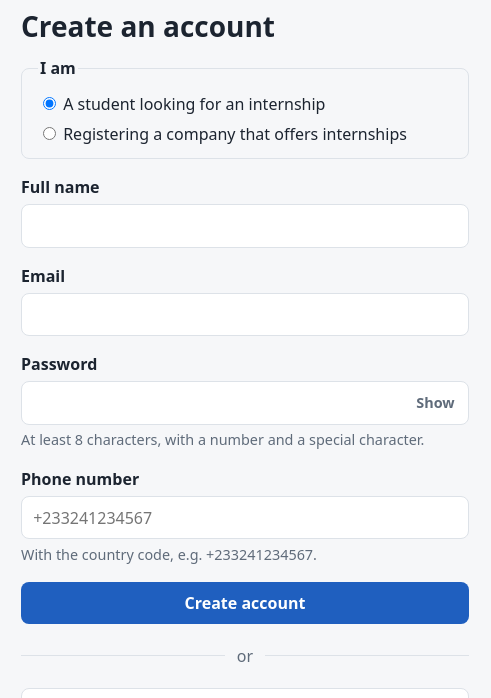
Test: RegisterPage (US-01, US-04) › applies the password and phone rules before sending
Type "ada@example.com" into the field labelled "Email" at (245, 314), box [21,293,469,336]
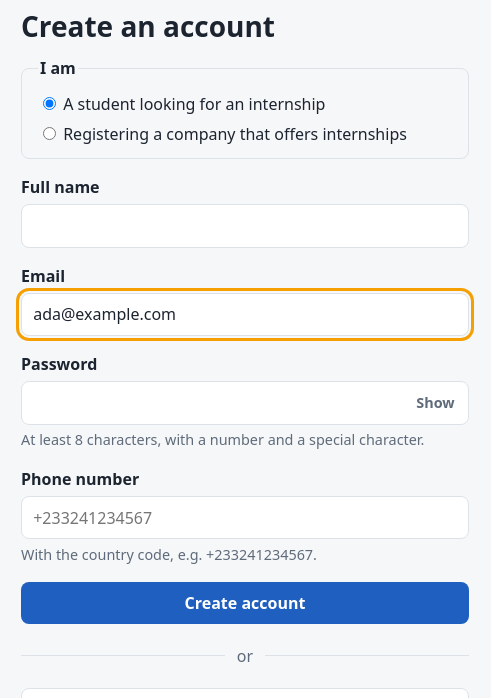
Type "password" into the password field labelled "Password" at (245, 403), box [21,381,469,425]
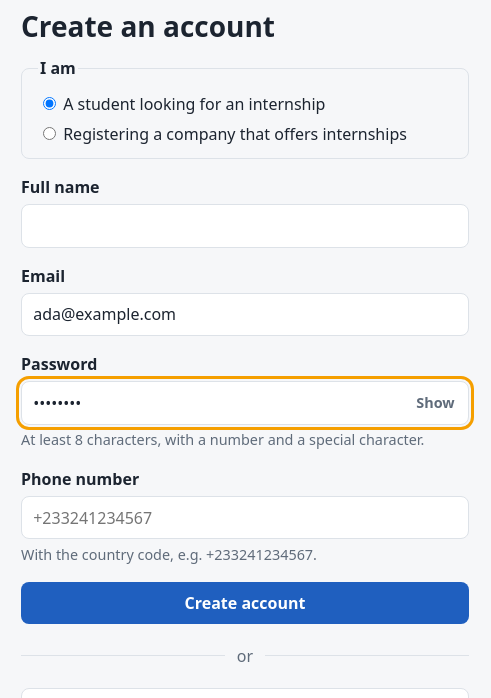
Type "0712345678" into the field labelled "Phone number" at (245, 518), box [21,496,469,539]
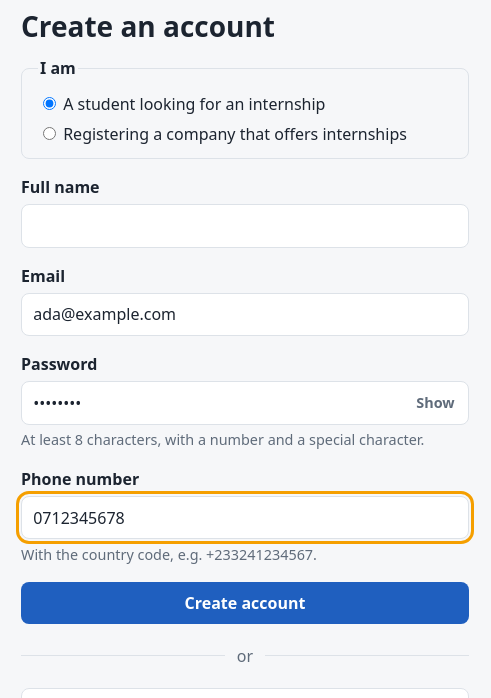
Click the button "Create account" at (245, 603), box [21,582,469,624]
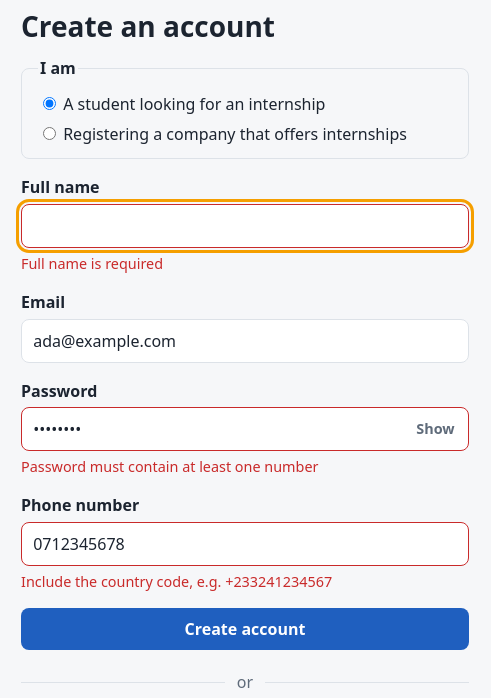
Check: the text "Password must contain at least one number" is shown, box [21,457,318,476]
Check: the text "Include the country code, e.g. +233241234567" is shown, box [21,572,332,591]
